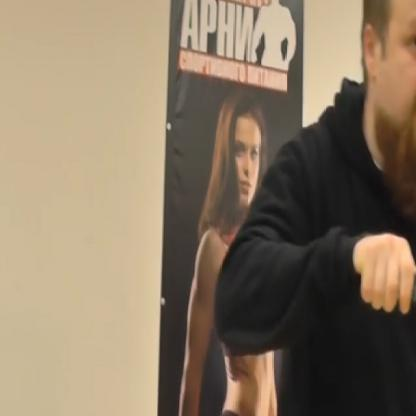knife: (374, 229, 415, 322)
